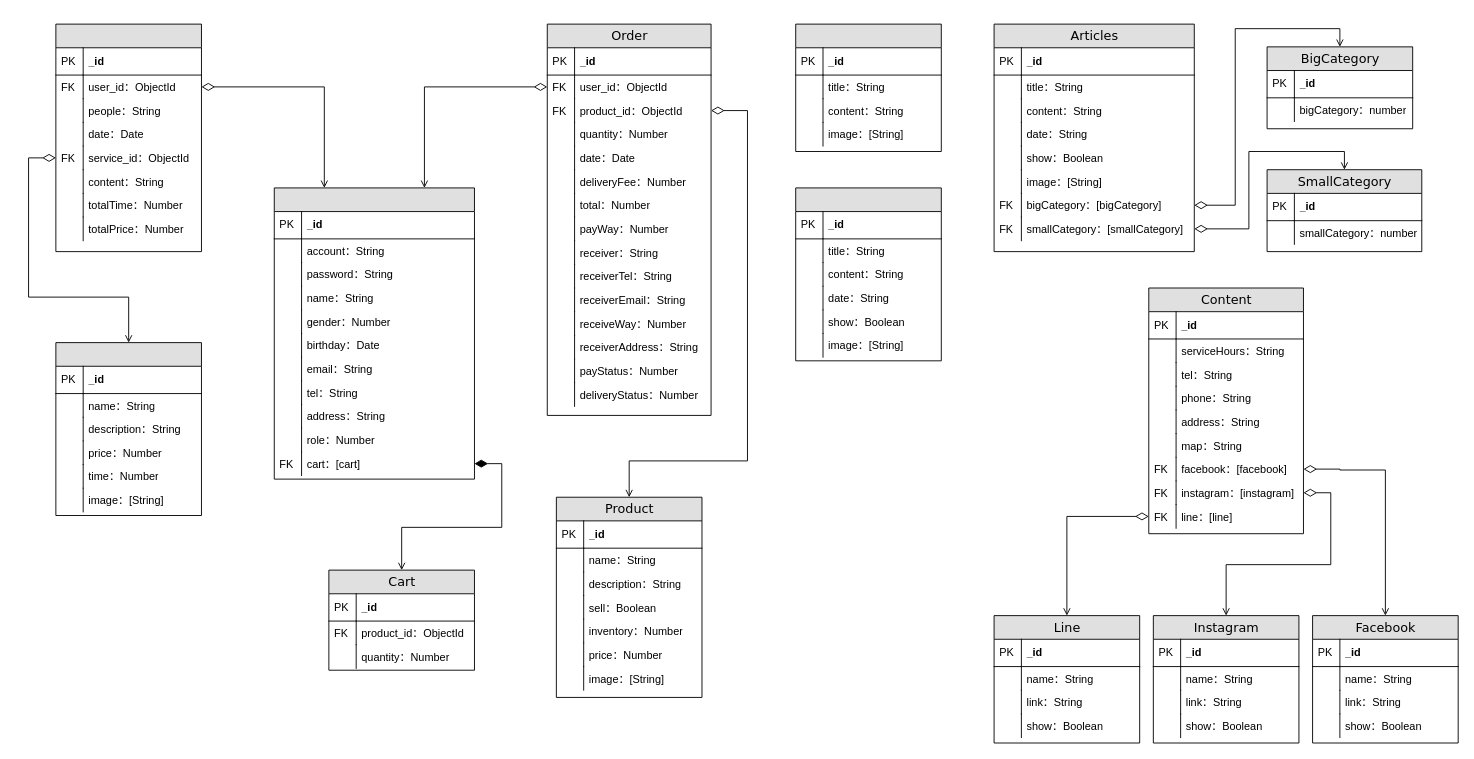
Some shapes in this 1474 by 759 pixel diagram are drawn without their labels. Here are the shapes that lost their labels. From the top down, the box of each, then its label:
(795, 23, 941, 152): Introduction
(55, 23, 201, 252): Appointment
(795, 187, 941, 361): News
(273, 187, 474, 479): User
(55, 342, 201, 516): Service
